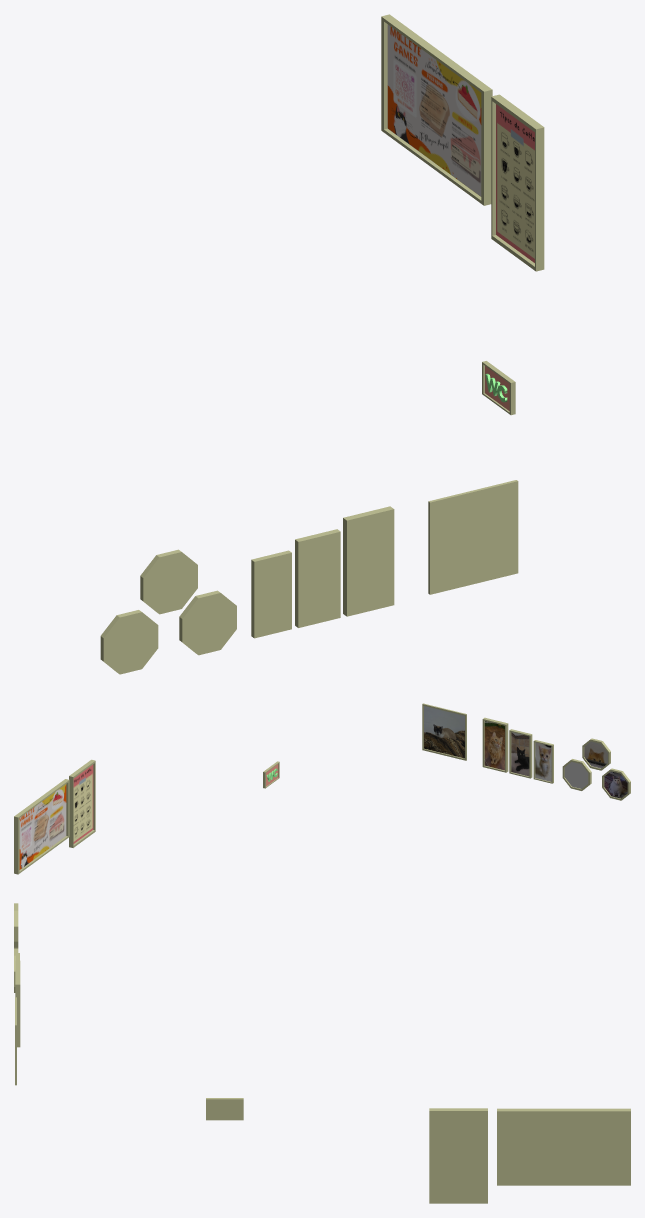
The model's file is Cuadros_CoffeCat.fbx.
The picture shows the model from 3 angles, top to bottom: view 1: azimuth 30°, elevation 25°; view 2: azimuth 150°, elevation 25°; view 3: azimuth 270°, elevation 25°; orthographic projection. The views are drawn at different scales.
Parts seen in each view (by area): view 1: CartelMenu, CuadroCuadrado, CartelMenu.001, CuadroRec.Long, CuadroRec.Mid, CuadroRec.Short, Cube.003, Cube.002, Cube.001, Cube; view 2: CartelMenu, CuadroCuadrado, CartelMenu.001, CuadroRec.Long, CuadroRec.Mid, CuadroRec.Short, Cube.002, Cube.003, Cube.001, Cube; view 3: CartelMenu, CartelMenu.001, Cube.
Part boxes in pixels (x1,y1,x2,y2): CartelMenu: [381, 14, 492, 205]; CuadroCuadrado: [428, 480, 518, 594]; CartelMenu.001: [491, 94, 544, 271]; CuadroRec.Long: [343, 506, 394, 616]; CuadroRec.Mid: [295, 529, 340, 627]; CuadroRec.Short: [251, 550, 291, 638]; Cube.003: [100, 610, 158, 674]; Cube.002: [179, 590, 236, 655]; Cube.001: [140, 549, 197, 614]; Cube: [482, 361, 515, 415]; CartelMenu: [14, 779, 69, 874]; CuadroCuadrado: [422, 703, 466, 760]; CartelMenu.001: [69, 759, 95, 847]; CuadroRec.Long: [482, 717, 508, 772]; CuadroRec.Mid: [509, 729, 532, 778]; CuadroRec.Short: [533, 740, 553, 783]; Cube.002: [562, 759, 591, 790]; Cube.003: [602, 768, 630, 800]; Cube.001: [582, 738, 610, 770]; Cube: [263, 761, 279, 788]; CartelMenu: [497, 1108, 630, 1185]; CartelMenu.001: [429, 1108, 487, 1203]; Cube: [206, 1098, 243, 1120].
Bounding box in the file's own units: 1393 × 249 × 1506.
